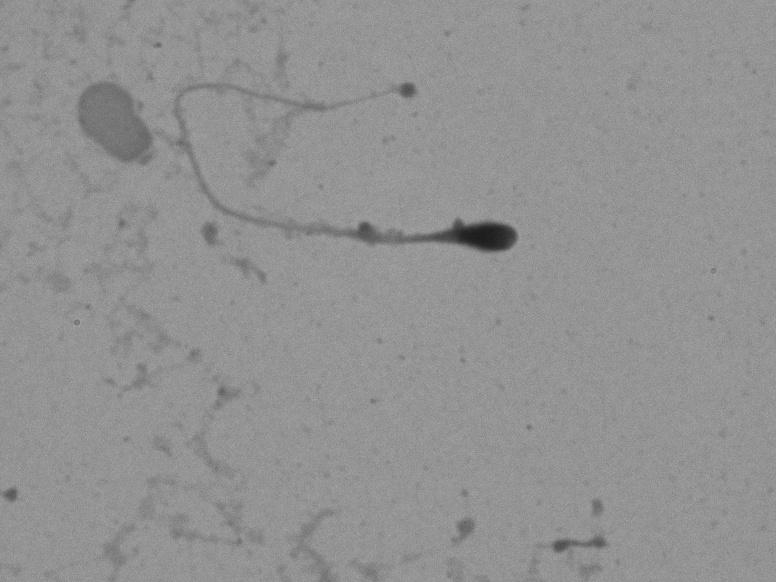Abnormal: (152, 52, 582, 280)
